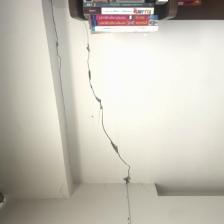Medium: (77, 42, 142, 181)
